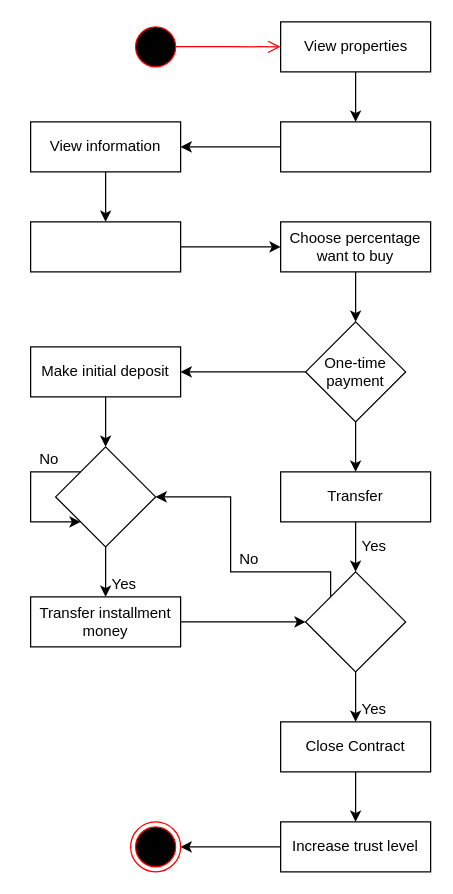
The diagram is 453 pixels wide and 894 high, and some of its shapes have lost their labels. The shapes that lost their labels are listed below. From the top down, each one's box as (x1, y1, x2, y2) in pixels, then its label:
(279, 121, 431, 172): Choose one to buy
(29, 221, 181, 272): Make purchase
(54, 446, 156, 547): End of a period
(304, 571, 406, 672): Satisfied contract
